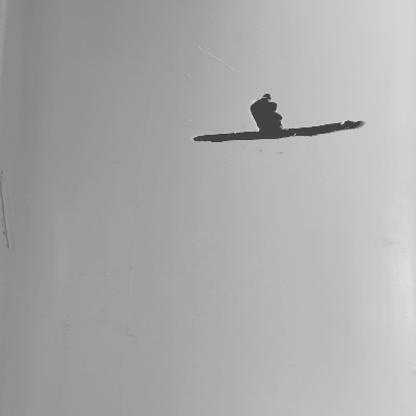fengxi: (192, 120, 368, 143)
kongdong: (247, 93, 286, 129)
